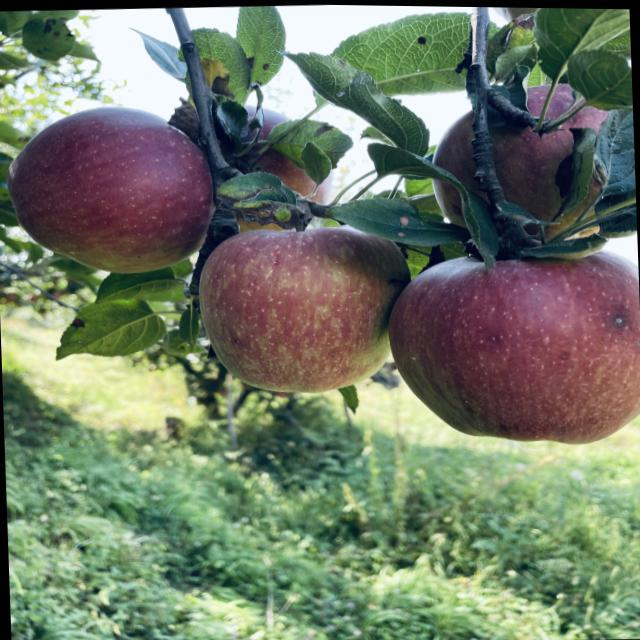Apple: (388, 248, 640, 442), (199, 224, 410, 391), (6, 106, 213, 272), (217, 105, 327, 229), (488, 105, 608, 218), (432, 109, 486, 196), (547, 176, 602, 235), (432, 177, 465, 224), (546, 82, 572, 116), (526, 83, 550, 114), (282, 176, 287, 180)
